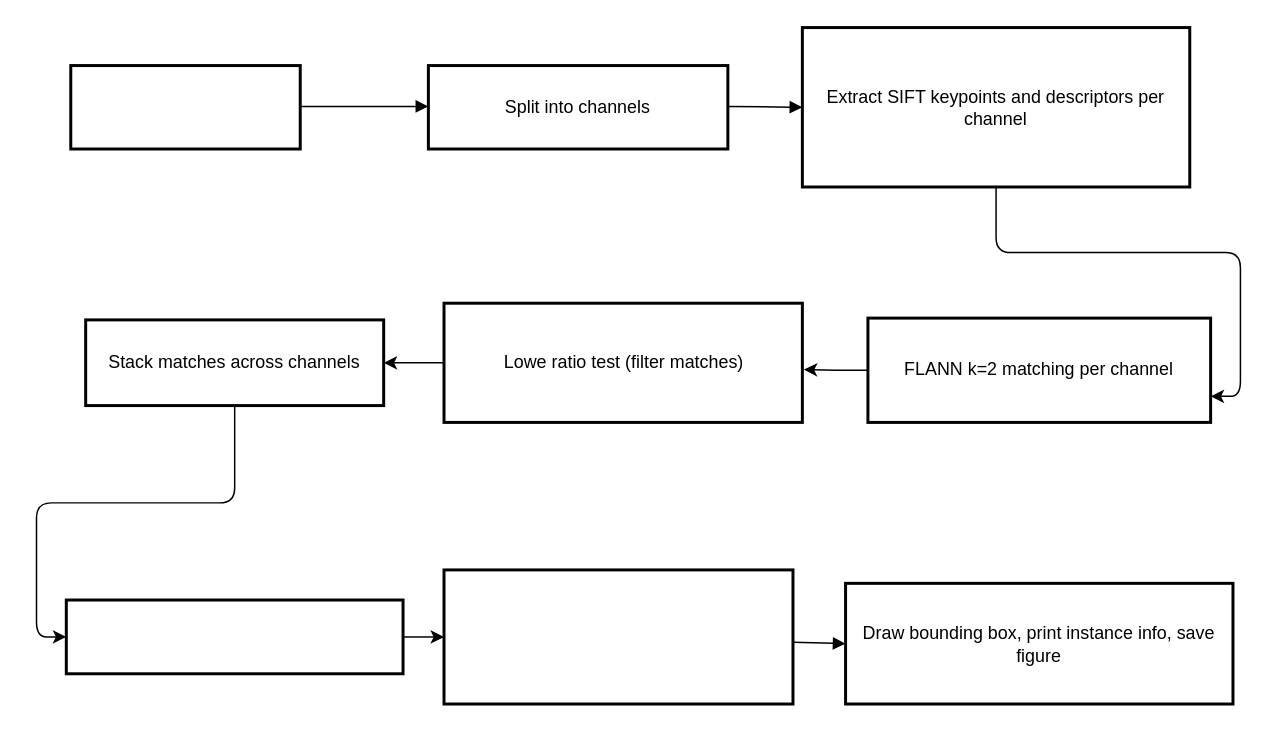
Some shapes in this 1278 by 730 pixel diagram are drawn without their labels. Each missing label, with the centre of its shape:
"Load images" belongs at pixel 185 106.
"Project model corners and compute aligned rectangle" belongs at pixel 618 636.
"RANSAC homography estimation" belongs at pixel 234 636.
